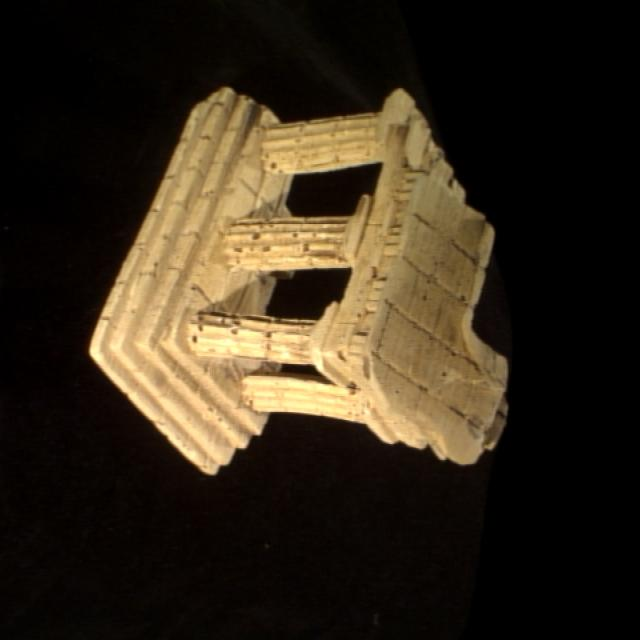Instance-Segmentation: (91, 88, 507, 472)
